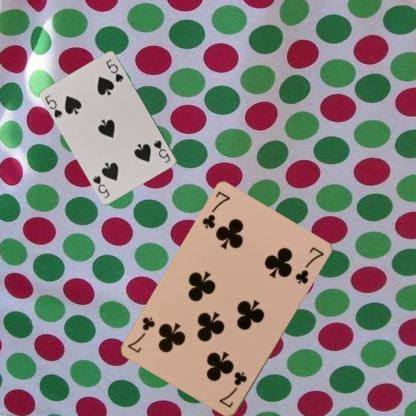5s: (150, 138, 172, 164), (42, 92, 63, 118)
7c: (199, 189, 232, 231), (216, 369, 248, 410)
